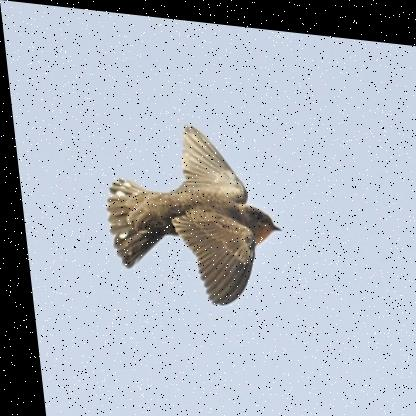Burung: (94, 112, 283, 306)
